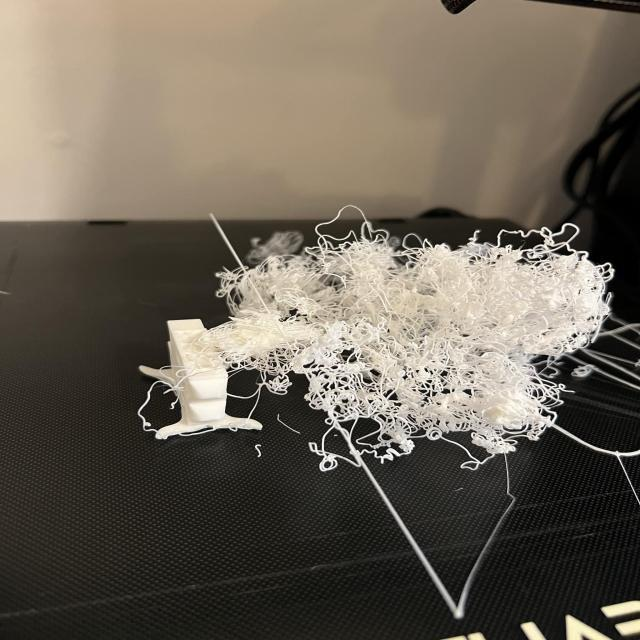spaghetti: (241, 241, 587, 431)
